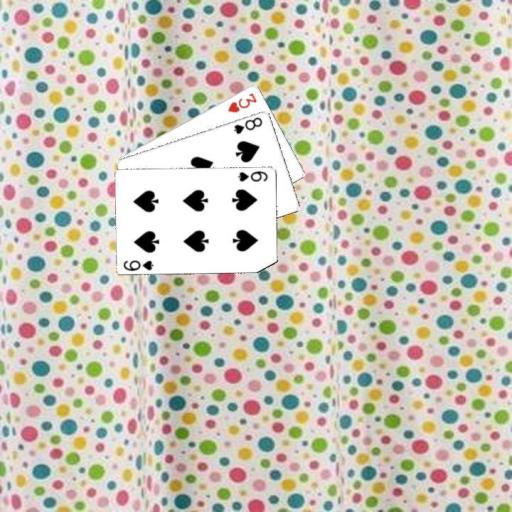3H: (225, 90, 259, 114)
6S: (235, 168, 269, 183), (121, 257, 155, 272)
8S: (230, 114, 264, 135)
